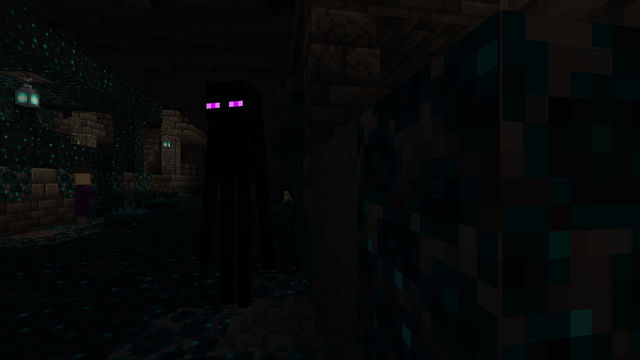endermens: (205, 70, 260, 317)
sorcieres: (73, 171, 93, 222)
